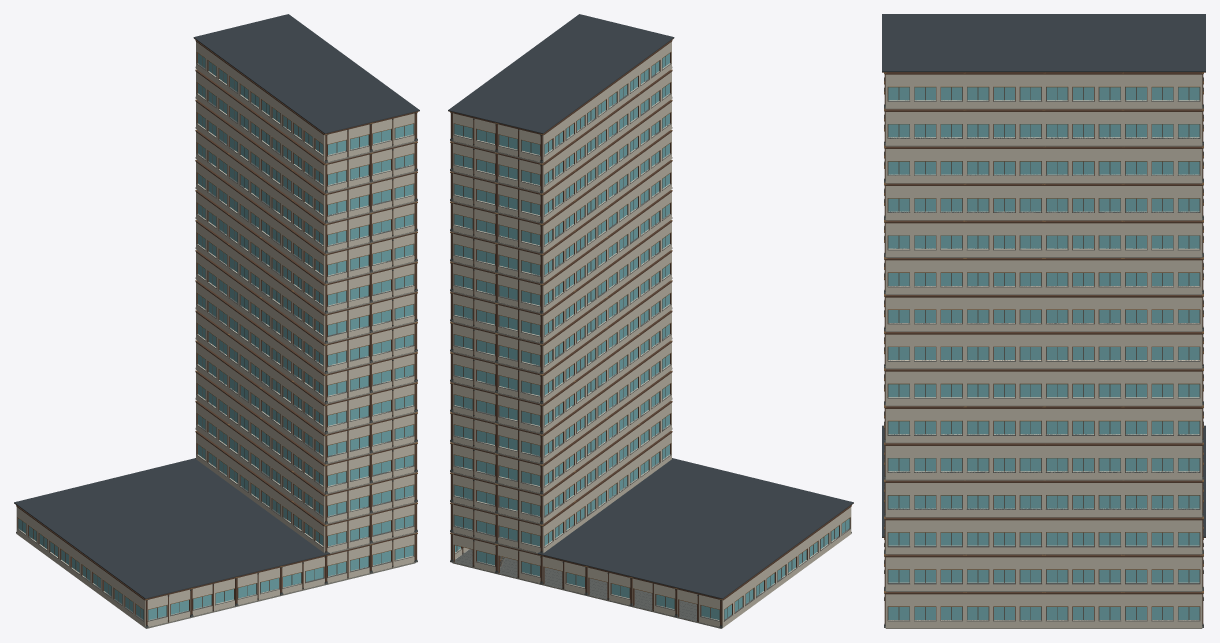
Rendered from visual-far.glb.
3 renders of one model, left to right at view 1: azimuth 30°, elevation 25°; view 2: azimuth 150°, elevation 25°; view 3: azimuth 270°, elevation 25°, orthographic. The views are drawn at different scales.
Parts seen in each view (by area): view 1: 参数墙 · 独立窗玻璃 (×94), 连续屋面 · flat (×2); view 2: 参数墙 · 独立窗玻璃 (×88), 连续屋面 · flat (×2), 参数墙 · 通行门洞 (×6); view 3: 参数墙 · 独立窗玻璃 (×60), 连续屋面 · flat (×2).
Boxes of the visible parts, x1,y1,x2,y2 form: 参数墙 · 独立窗玻璃 (×94): (16,40,415,627); 连续屋面 · flat (×2): (14,14,419,599); 参数墙 · 独立窗玻璃 (×88): (452,40,851,627); 连续屋面 · flat (×2): (448,14,853,599); 参数墙 · 通行门洞 (×6): (453,533,720,626); 参数墙 · 独立窗玻璃 (×60): (885,72,1202,628); 连续屋面 · flat (×2): (882,14,1205,537).
Bounding box in the file's own units: 42 × 66.32 × 34.8.
Materials: 15 (15 with a texture image).
